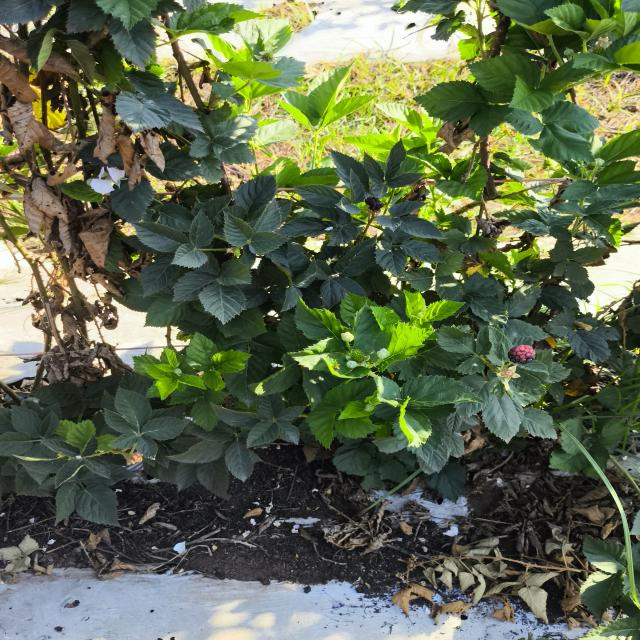boton: (377, 348, 390, 359), (341, 331, 354, 342), (346, 361, 358, 369)
marron: (508, 345, 535, 364)
